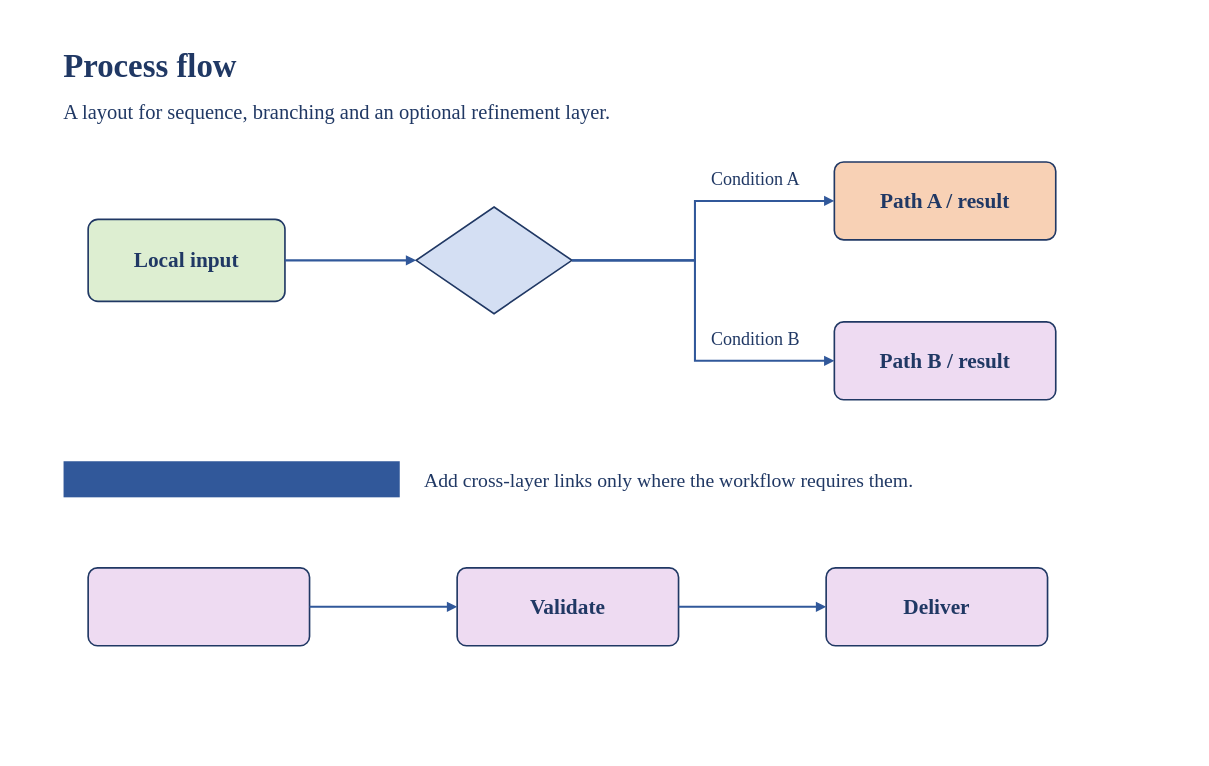
Image size: 1209x766. Some labels were removed from this diagram. Here are the shapes that lost their labels. From the top down, the centre of each, then its label:
(493,260): Condition?
(231,479): Optional refinement layer
(198,606): Refine
